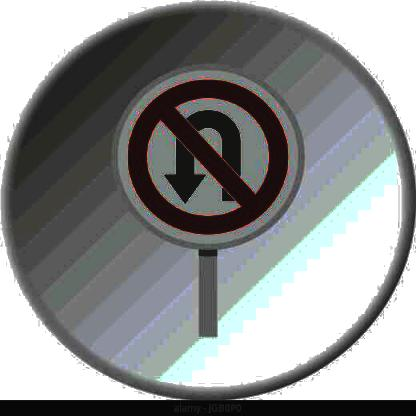No U-turn: (121, 74, 304, 252)
